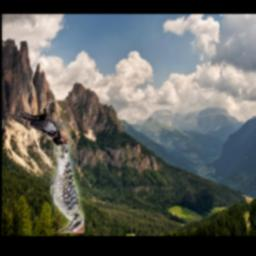Crow: (18, 100, 73, 148)
Woodpecker: (50, 119, 84, 233)
